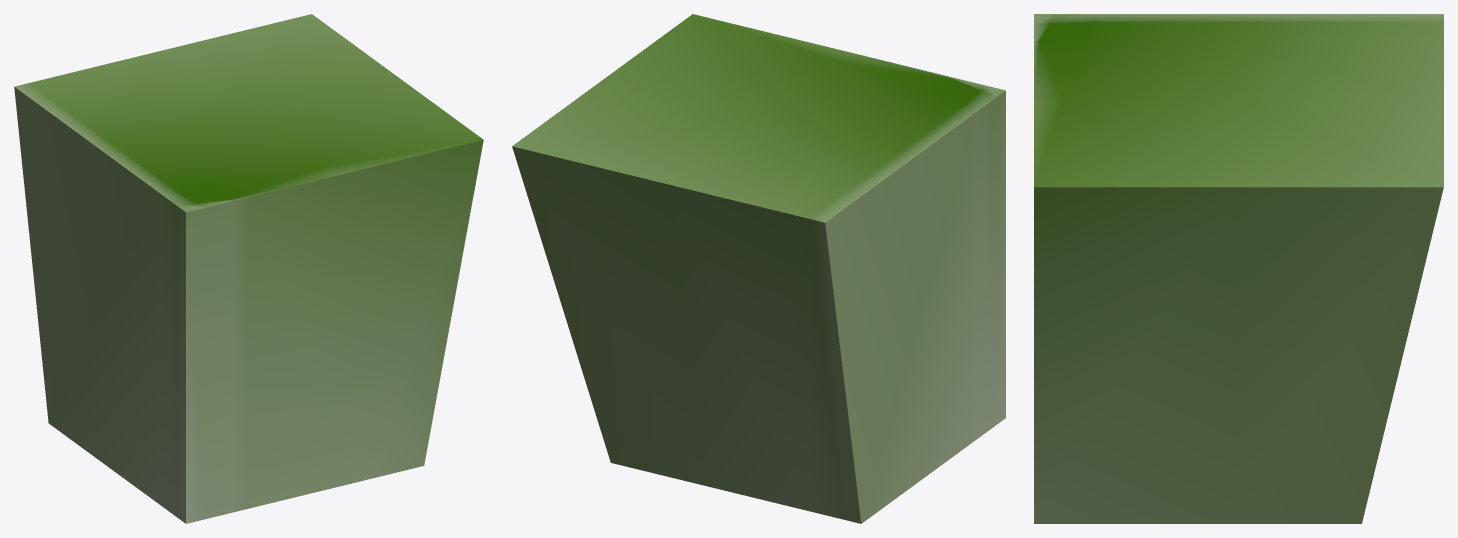
Rendered from T8DirL.fbx.
3 renders of one model, left to right at view 1: azimuth 30°, elevation 25°; view 2: azimuth 150°, elevation 25°; view 3: azimuth 270°, elevation 25°, orthographic. The views are drawn at different scales.
Visible parts, largest first — view 1: 3, 1, 4, 2; view 2: 4, 2, 3, 1; view 3: 1, 2, 3, 4.
Part boxes in pixels (bbox=[...]): 3: bbox=[100, 113, 334, 523]; 1: bbox=[249, 77, 483, 487]; 4: bbox=[14, 50, 248, 460]; 2: bbox=[163, 14, 397, 112]; 4: bbox=[668, 118, 915, 523]; 2: bbox=[512, 80, 758, 485]; 3: bbox=[759, 52, 1005, 483]; 1: bbox=[602, 14, 848, 118]; 1: bbox=[1034, 100, 1238, 523]; 2: bbox=[1239, 100, 1443, 523]; 3: bbox=[1034, 14, 1238, 100]; 4: bbox=[1239, 14, 1443, 100].
Size of the model in its own units: 200 by 200 by 200.
